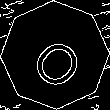O_NE: (22, 22, 88, 88)
